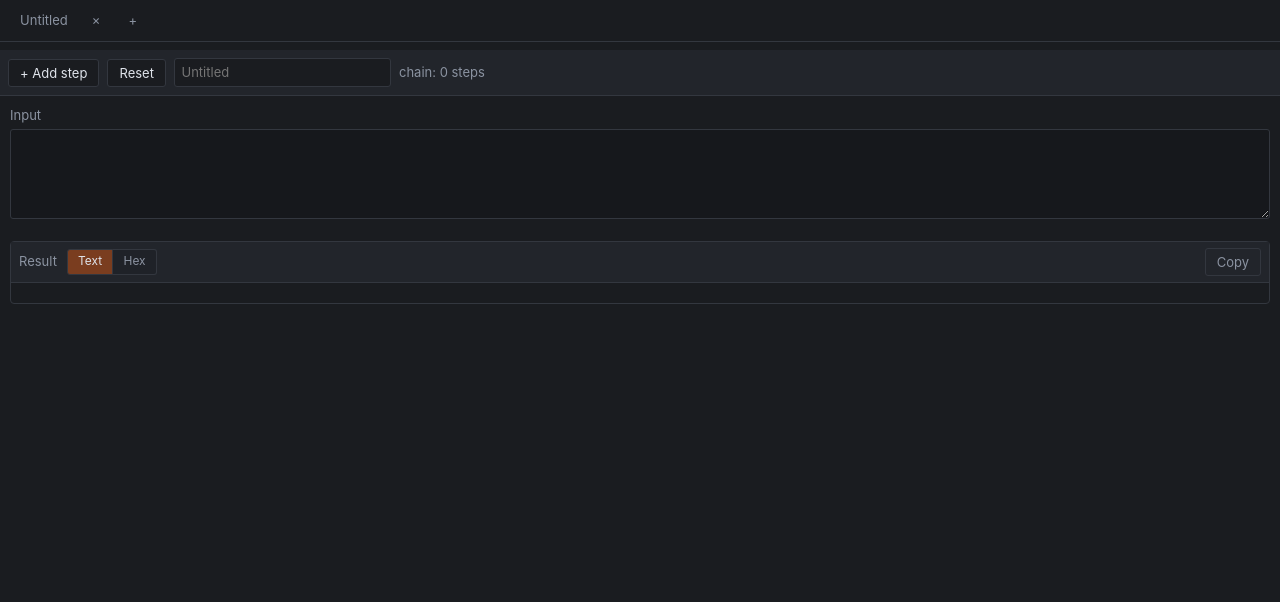
Test case: DecoderTab › chains multiple steps in order
The width and height of the screenshot is (1280, 602).
Type "x" into the text box named "decoder input" at (640, 174), box [10,129,1270,219]
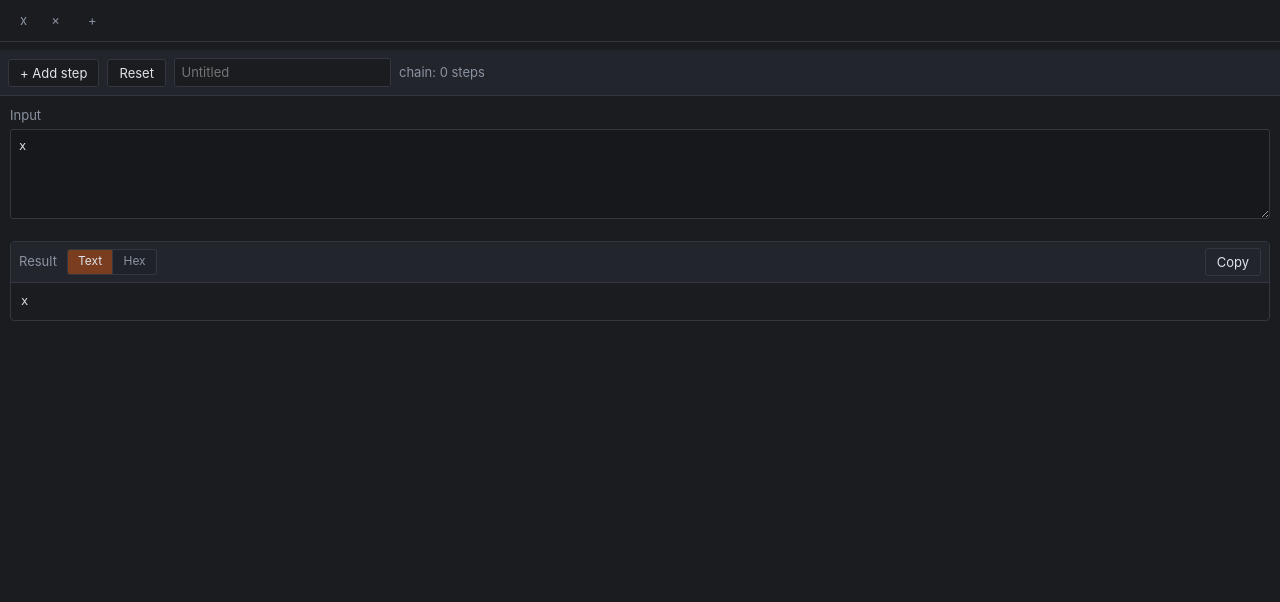
Click the button "+ Add step" at (54, 73), box [8,59,99,87]
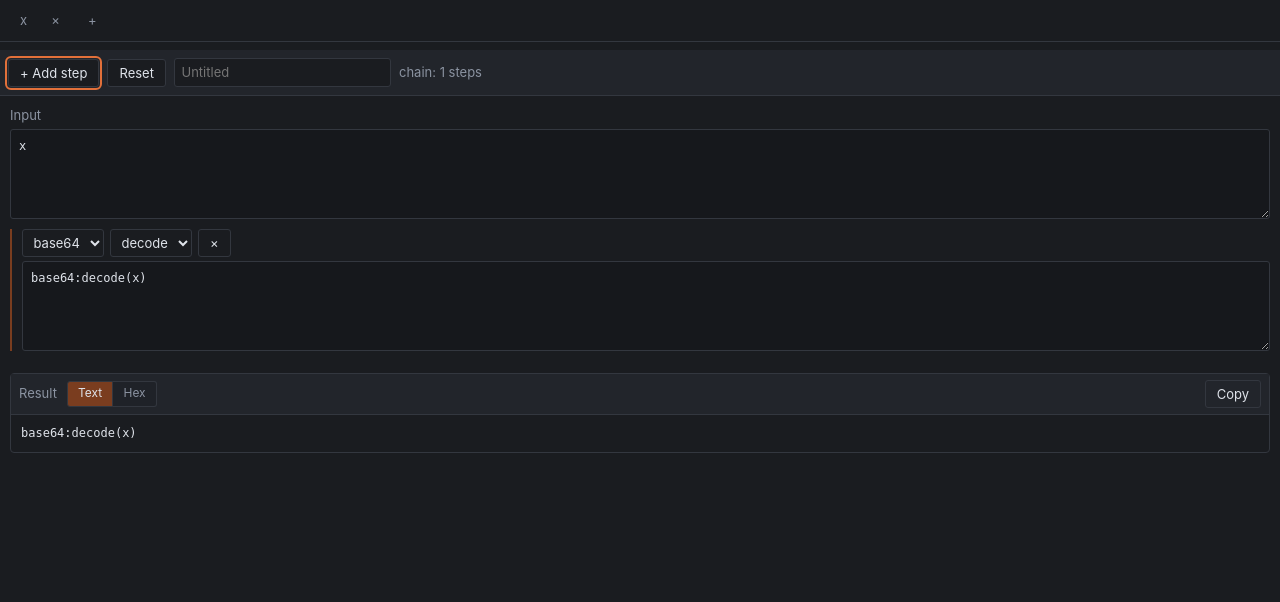
Click the button "+ Add step" at (54, 73), box [8,59,99,87]
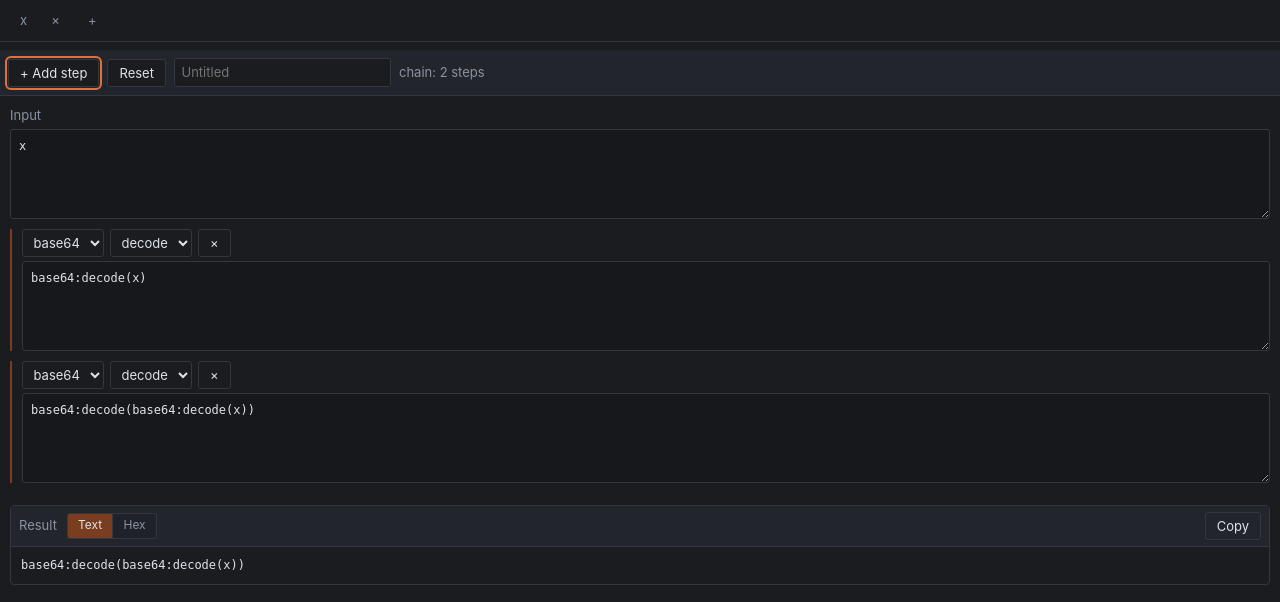
Select "url" in the dropdown named "codec 2" at (63, 375), box [22,361,104,389]
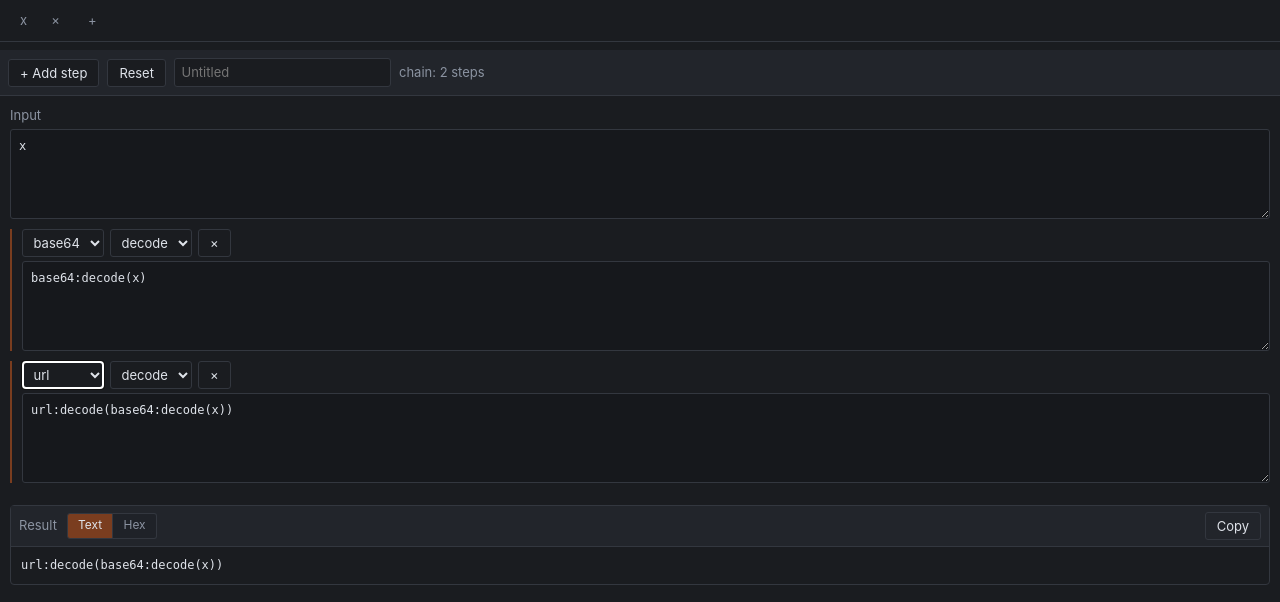
Check: the 1st text with class "chain-output" reads "url:decode(base64:decode(x))", box [31,403,233,417]
